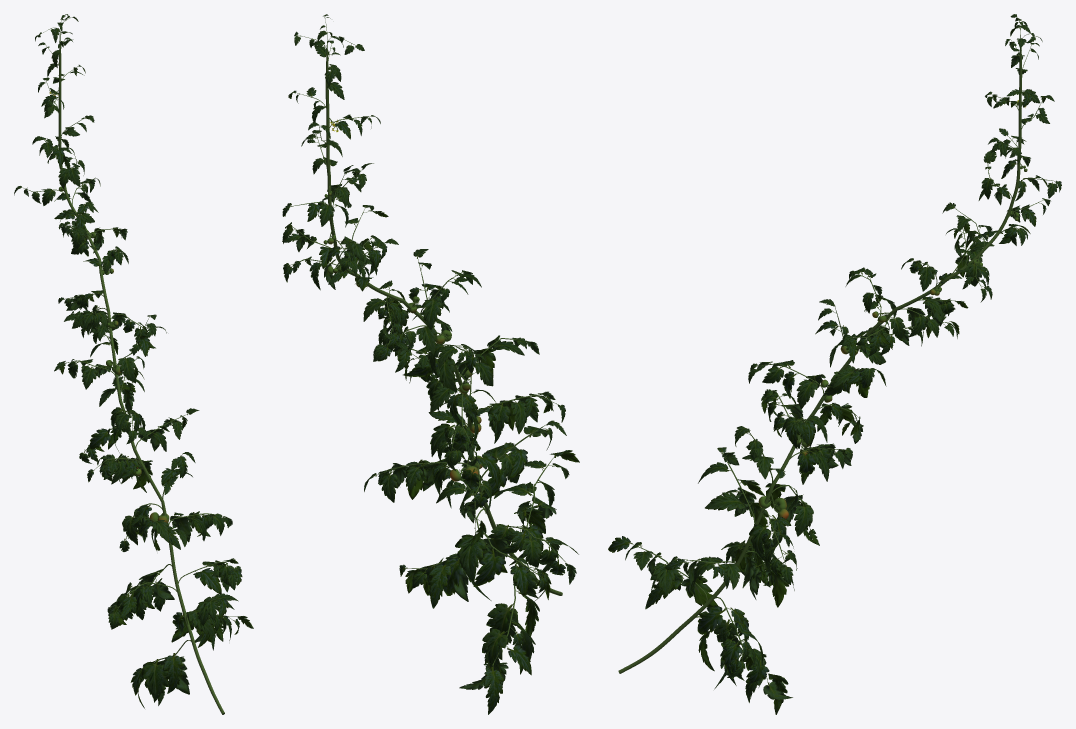
File: tomato_020.glb
3 views of the same model, side by side, from view 1: azimuth 30°, elevation 25°; view 2: azimuth 150°, elevation 25°; view 3: azimuth 270°, elevation 25° (orthographic). The views are drawn at different scales.
Visible parts, largest first — view 1: tomato_020; view 2: tomato_020; view 3: tomato_020.
Boxes of the visible parts, box(x1,y1,x2,y2) form: tomato_020: box(14, 14, 253, 714); tomato_020: box(282, 14, 579, 714); tomato_020: box(608, 14, 1061, 714).
Size of the model in its own units: 0.8087 by 3.2 by 1.84.
16 materials, 15 textured.
